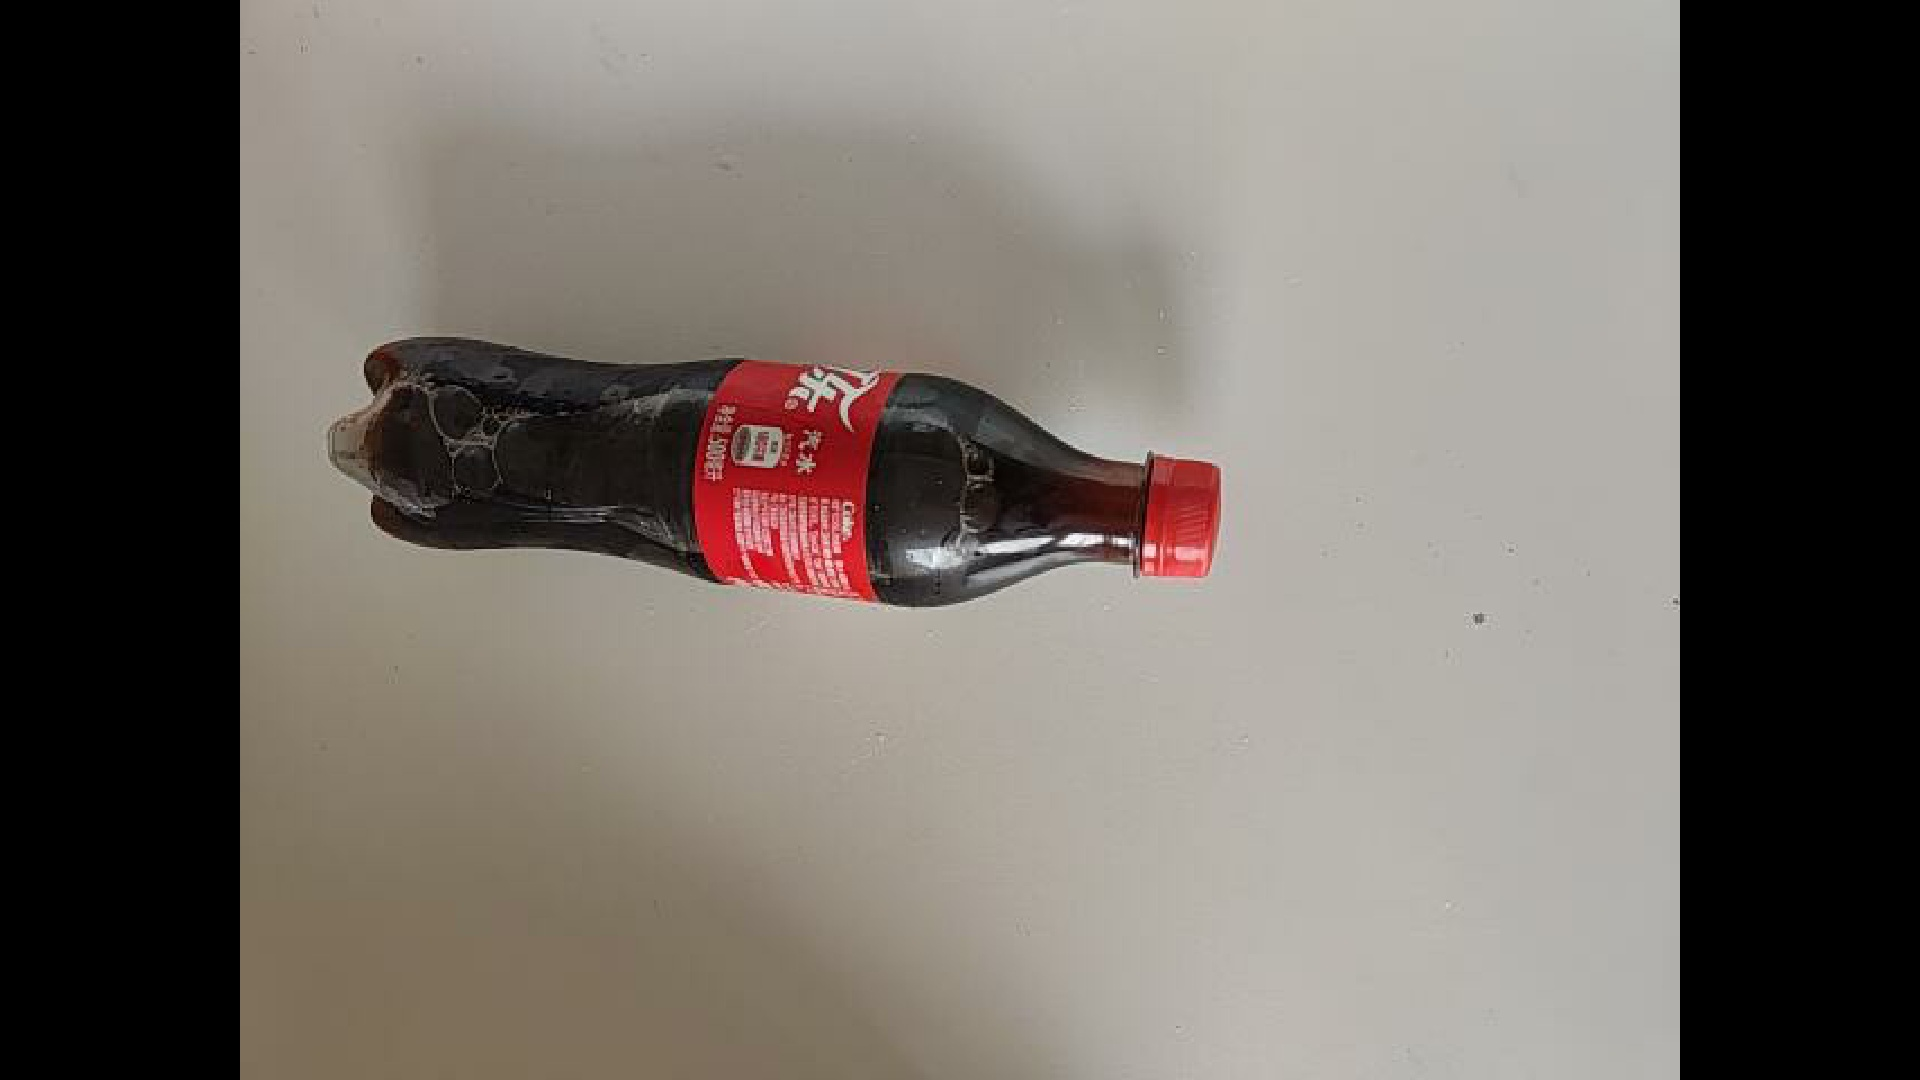cola: (294, 309, 1234, 600)
